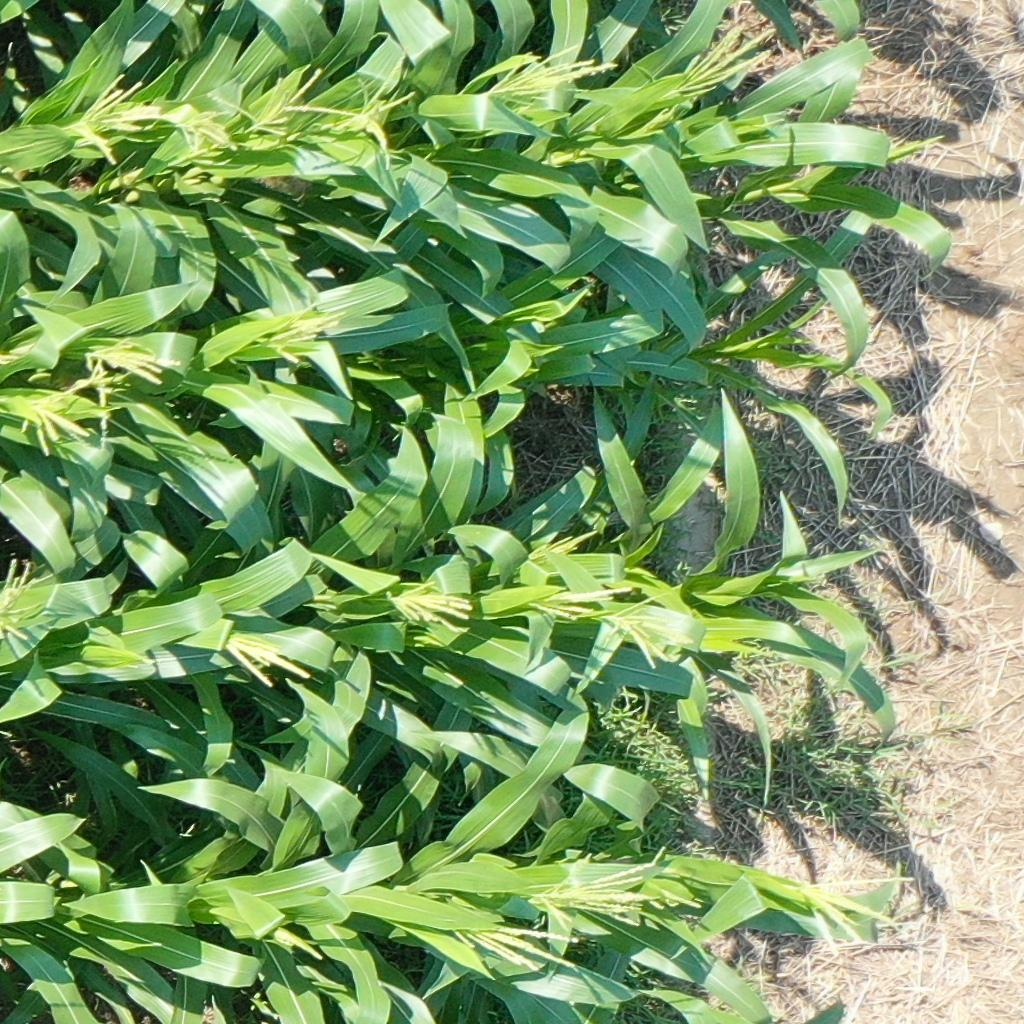Tassel: (285, 55, 420, 171), (523, 844, 696, 933), (793, 870, 919, 965), (79, 331, 185, 435), (661, 16, 779, 103), (482, 41, 624, 109), (65, 67, 160, 168), (208, 65, 324, 142), (443, 914, 582, 978), (13, 371, 101, 464), (599, 585, 694, 669), (258, 304, 348, 370), (222, 633, 310, 689), (1, 557, 50, 651), (520, 585, 628, 627), (386, 579, 475, 627), (168, 101, 238, 154), (527, 529, 596, 562), (265, 926, 324, 959)
